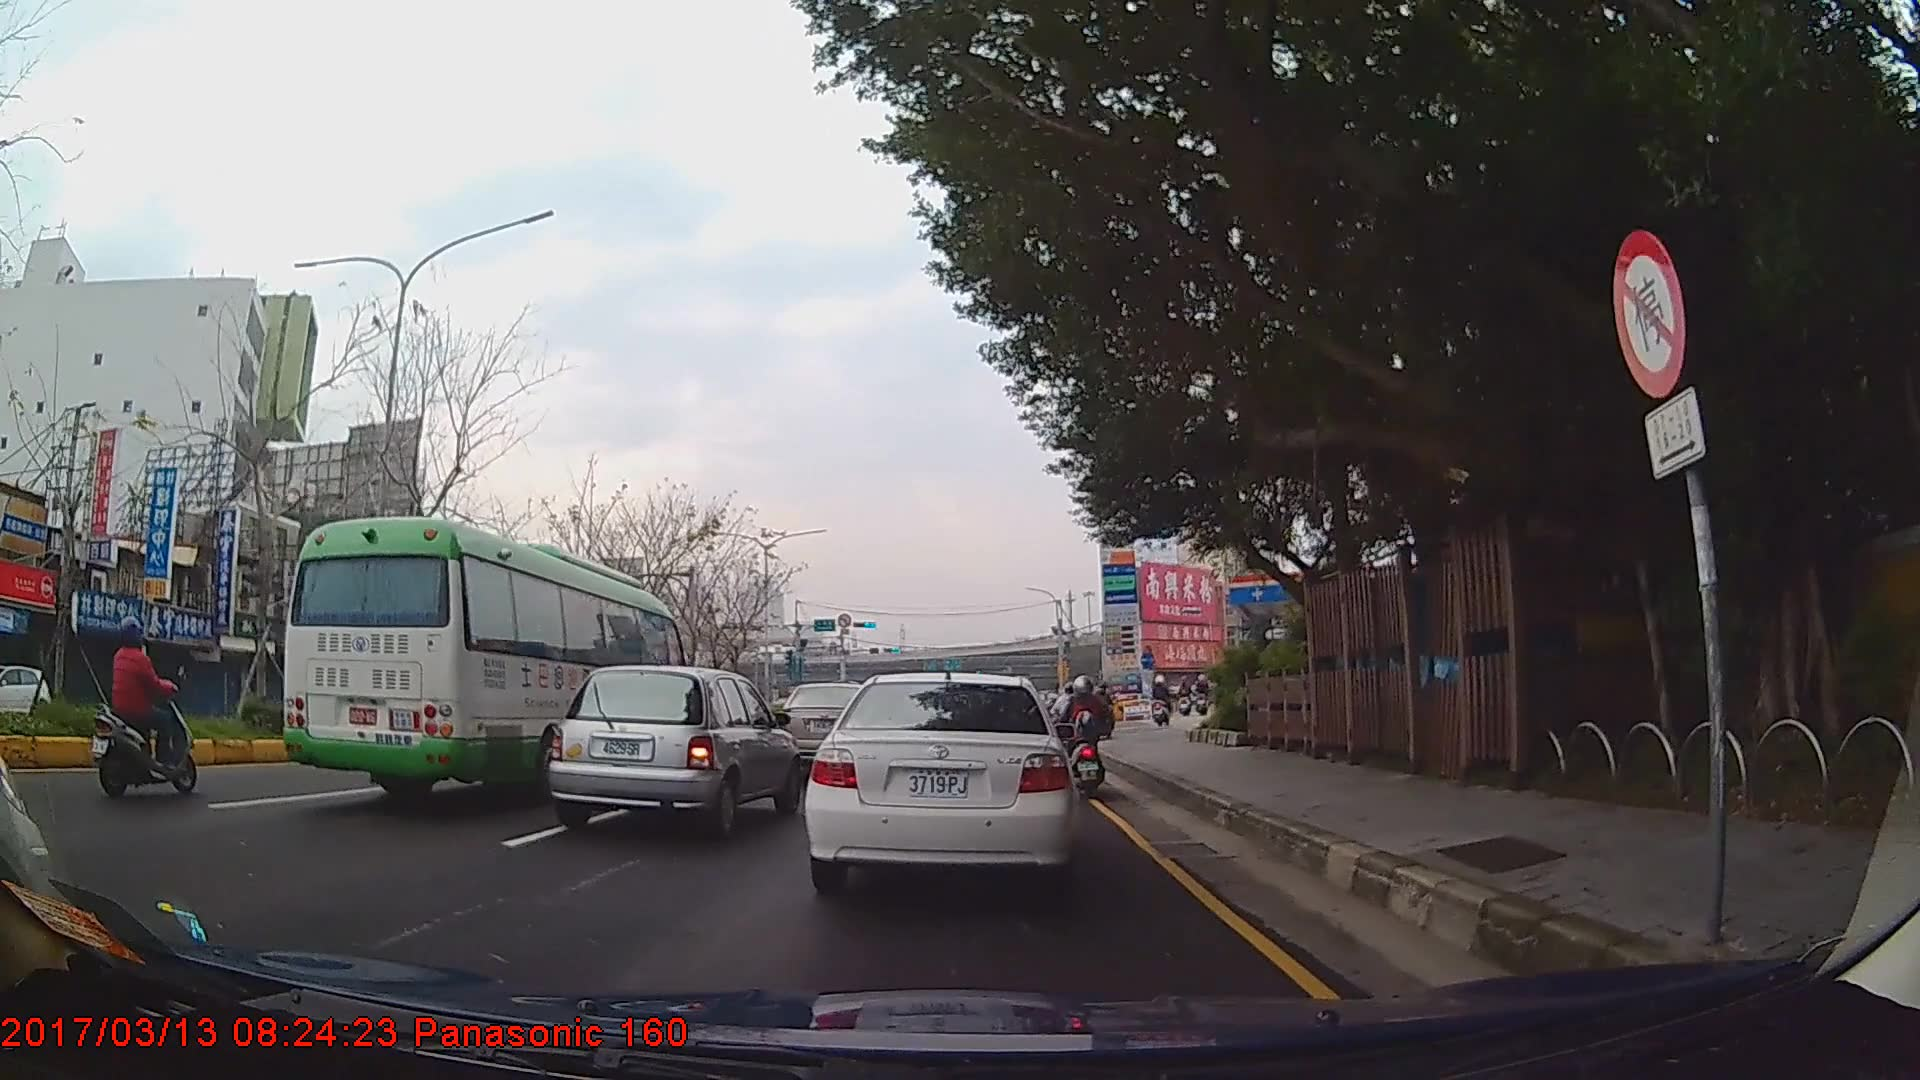rider: (94, 614, 201, 795), (1061, 673, 1109, 799), (1091, 681, 1119, 741), (1151, 676, 1174, 729)
vehicle: (282, 517, 687, 805), (801, 671, 1076, 892), (544, 659, 798, 836), (774, 677, 872, 768), (0, 661, 52, 727)
